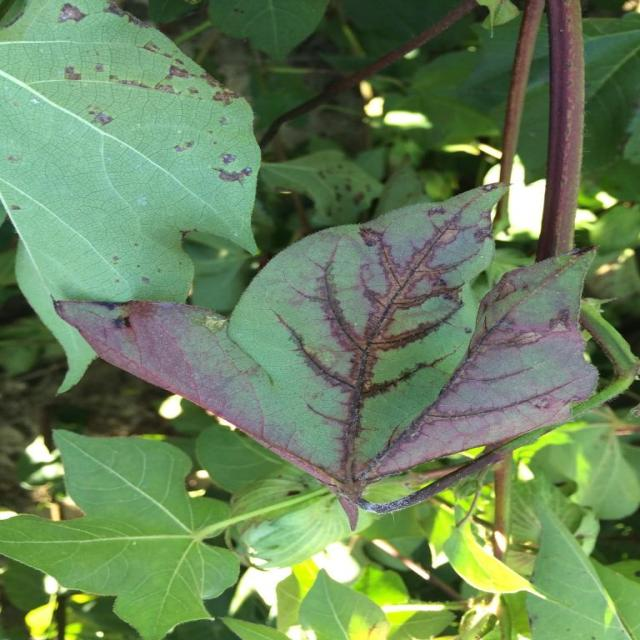Bacterial Blight: (303, 246, 479, 464)
